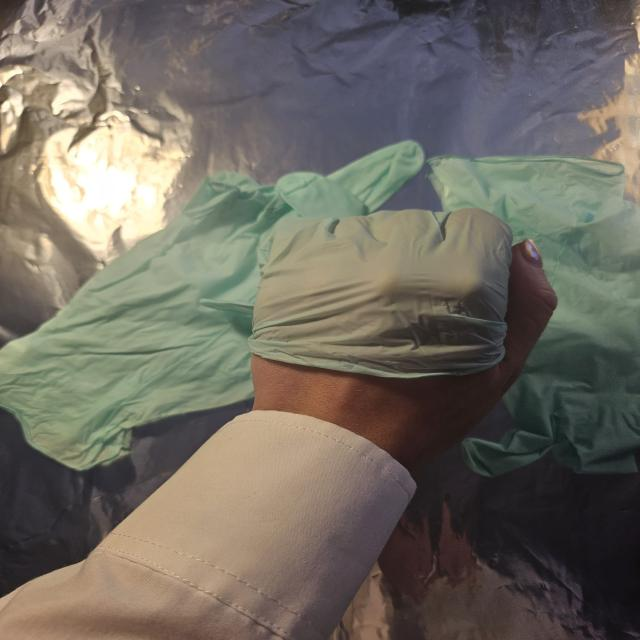glove_partial: (245, 208, 559, 455)
